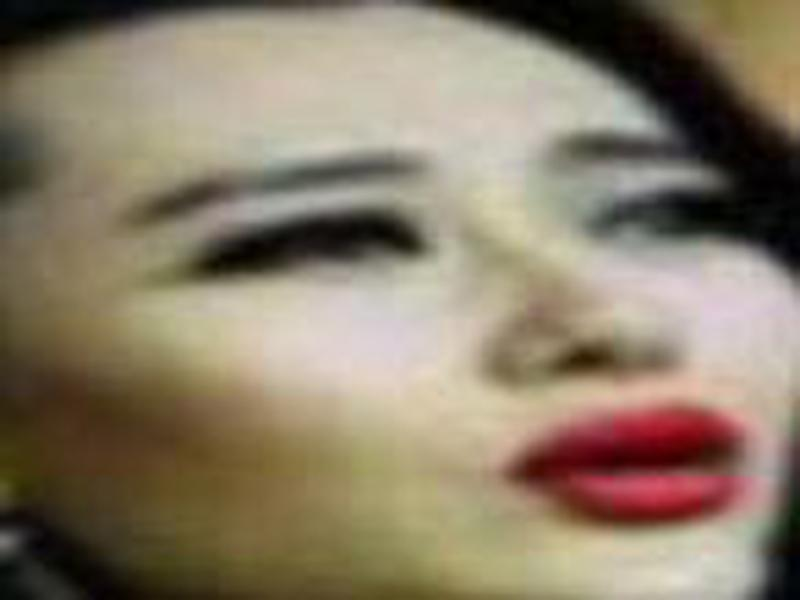without_mask: (12, 16, 793, 589)
